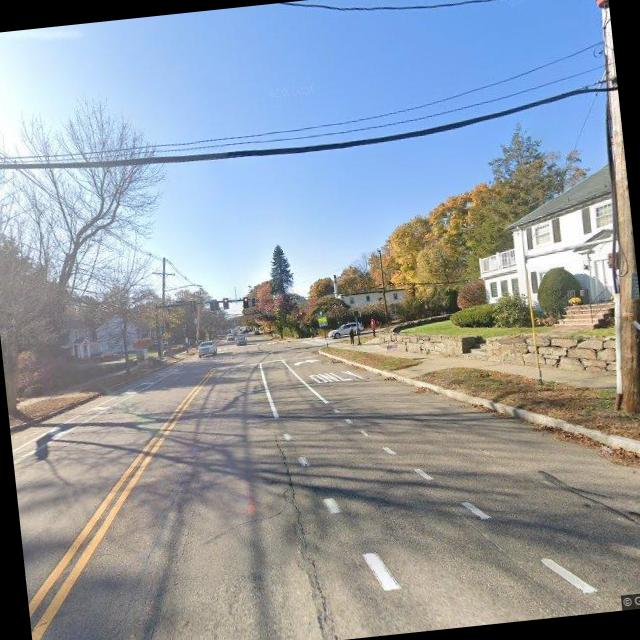crack: (268, 432, 338, 640), (179, 504, 291, 544)
